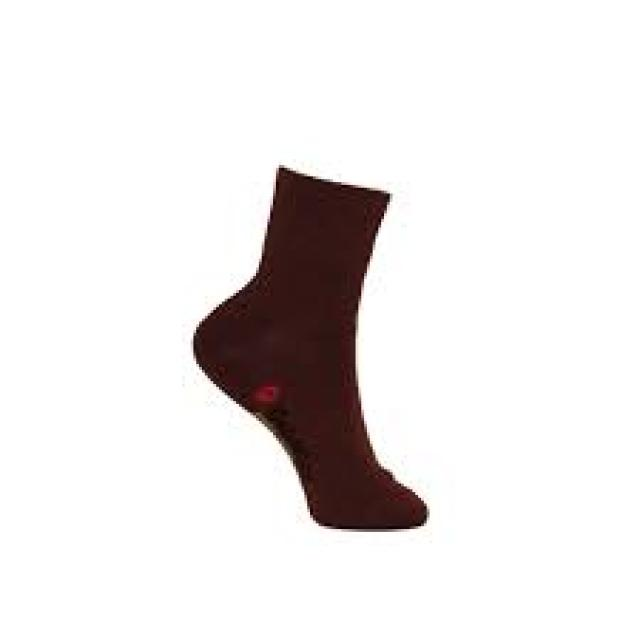sock: (190, 162, 427, 529)
